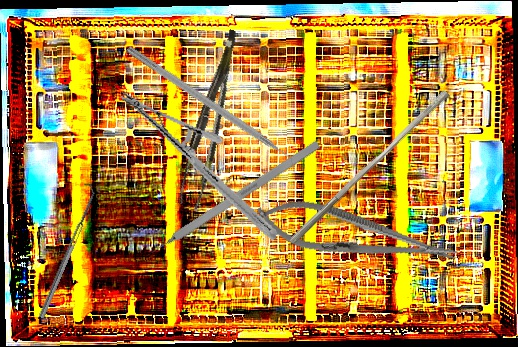Chopper: (118, 44, 306, 179)
Hook Surgical: (140, 139, 321, 263)
Needle Holder: (96, 89, 302, 242), (250, 190, 463, 281)
Pusher: (288, 84, 451, 251)
Spatula Surgical: (33, 183, 100, 319)
Tissue Forceps: (167, 29, 260, 210)
